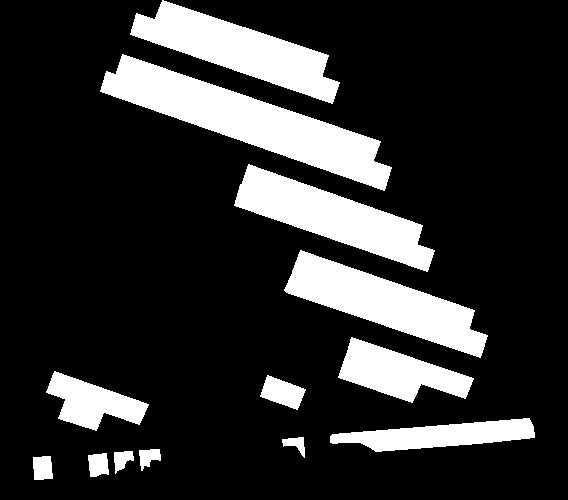parkingspot: (100, 71, 391, 190), (115, 54, 380, 163), (130, 13, 339, 103), (284, 270, 487, 357), (234, 184, 434, 271), (241, 164, 422, 246), (292, 250, 474, 331), (154, 0, 328, 77), (345, 337, 473, 398), (330, 418, 534, 451), (46, 371, 148, 424), (338, 356, 421, 402), (260, 375, 305, 409), (58, 397, 104, 430), (88, 453, 108, 476), (139, 449, 160, 470), (282, 437, 304, 457), (33, 456, 52, 479), (114, 451, 133, 473)
